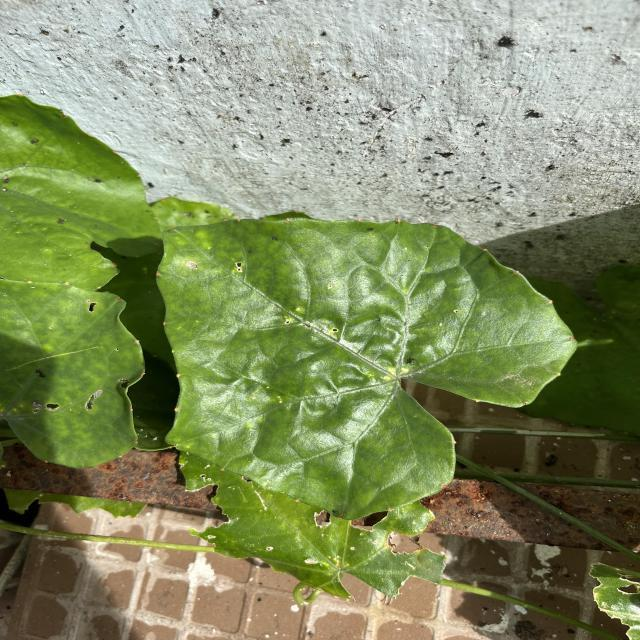Coccinia grandis: (145, 215, 583, 522)
